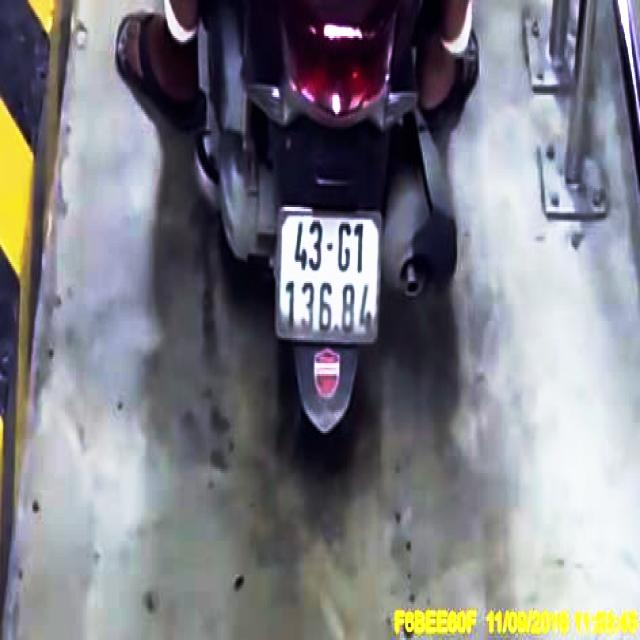license_plate: (278, 211, 382, 340)
